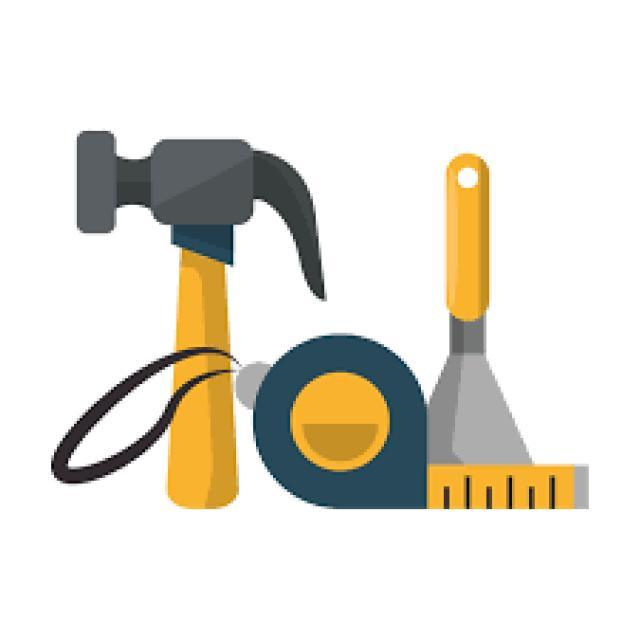Palu: (76, 98, 330, 510)
